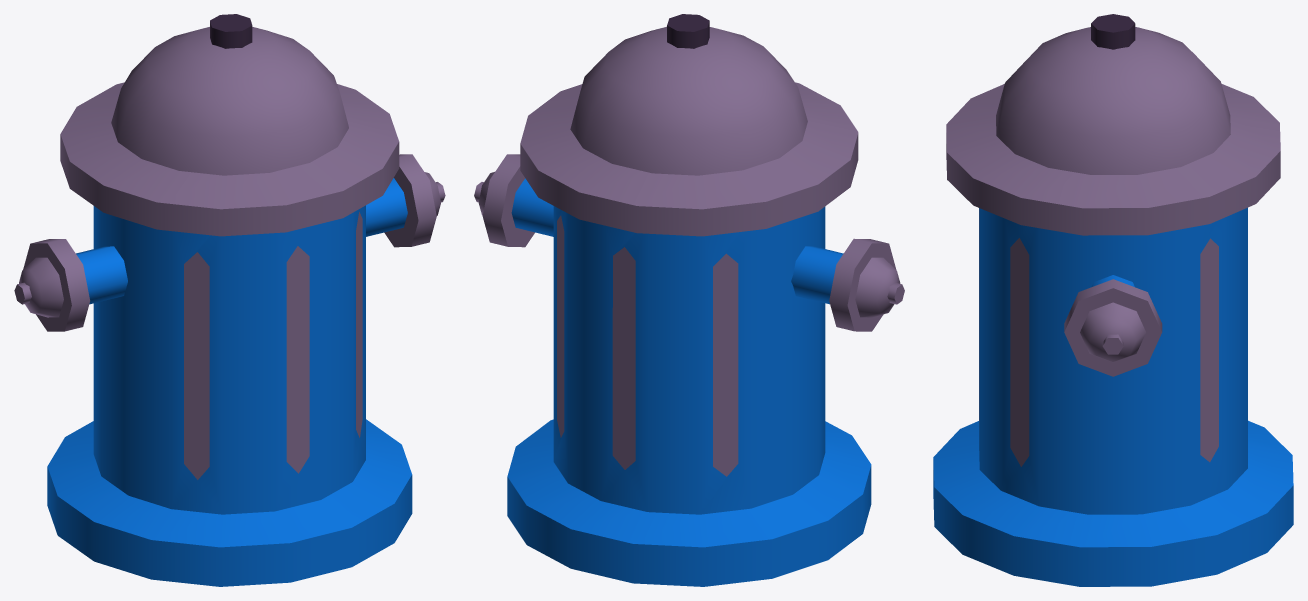
File: Fire_Hydrant_.fbx
The picture shows the model from 3 angles, left to right: view 1: azimuth 30°, elevation 25°; view 2: azimuth 150°, elevation 25°; view 3: azimuth 270°, elevation 25°; orthographic projection.
Parts seen in each view (by area): view 1: hydrant; view 2: hydrant; view 3: hydrant.
Boxes of the visible parts, x1,y1,x2,y2 form: hydrant: (14, 14, 445, 586); hydrant: (474, 14, 904, 586); hydrant: (933, 14, 1293, 586).
Size of the model in its own units: 0.8756 by 0.9684 by 0.6475.
